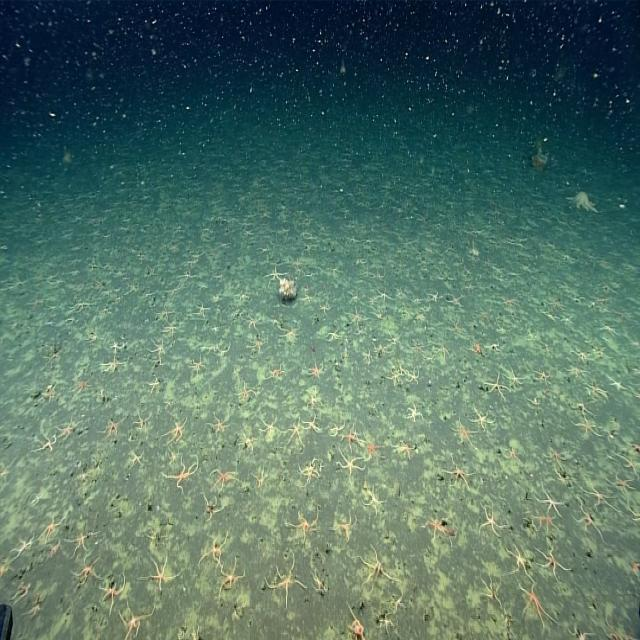brittle-stars: (518, 582, 556, 625), (360, 548, 395, 594), (267, 559, 302, 603), (534, 544, 572, 582), (118, 605, 154, 640), (146, 556, 183, 590), (591, 615, 640, 640), (582, 482, 618, 514), (165, 458, 198, 492), (288, 508, 321, 541), (573, 508, 606, 540), (198, 534, 226, 571), (337, 450, 367, 480), (218, 564, 247, 595), (36, 514, 68, 542), (445, 459, 473, 490), (98, 577, 125, 609), (505, 547, 533, 576), (534, 488, 562, 516), (480, 576, 505, 607), (69, 530, 99, 555), (99, 415, 124, 445), (614, 449, 640, 477), (346, 600, 364, 640), (21, 594, 46, 622), (479, 505, 502, 535), (72, 559, 98, 585), (207, 470, 237, 492), (163, 417, 188, 443), (331, 514, 357, 538), (298, 458, 321, 485), (452, 421, 476, 446), (483, 374, 508, 398), (572, 417, 601, 437), (13, 534, 33, 562), (361, 490, 384, 514), (470, 409, 495, 431), (540, 513, 564, 535), (0, 456, 16, 486), (570, 398, 592, 419), (546, 446, 567, 467), (69, 376, 91, 396), (58, 420, 81, 439), (204, 497, 222, 521), (286, 420, 303, 445), (34, 436, 55, 456), (208, 413, 229, 433), (426, 518, 446, 538), (146, 528, 163, 551), (10, 584, 30, 603), (266, 266, 287, 284), (235, 380, 252, 402), (362, 441, 381, 460), (396, 441, 415, 460), (530, 366, 550, 384), (237, 436, 258, 453), (310, 572, 326, 594), (246, 338, 268, 354), (264, 366, 286, 382), (303, 418, 322, 436), (614, 475, 633, 493), (601, 321, 619, 340), (328, 420, 345, 440), (348, 310, 369, 326), (378, 613, 394, 634), (570, 348, 594, 362), (586, 383, 608, 398), (304, 394, 322, 412), (305, 362, 324, 379), (406, 402, 422, 422), (261, 421, 282, 436), (569, 628, 595, 640), (0, 554, 14, 576), (386, 366, 402, 385), (133, 414, 149, 432), (342, 431, 360, 447), (44, 349, 60, 367), (251, 469, 267, 487), (506, 372, 524, 388), (146, 342, 166, 356), (279, 328, 299, 342), (102, 358, 122, 372), (70, 302, 93, 314), (564, 365, 586, 377), (166, 285, 186, 298), (189, 358, 205, 374), (156, 308, 172, 324), (376, 287, 393, 302), (42, 385, 56, 403), (435, 344, 450, 360), (386, 331, 402, 346), (447, 293, 464, 307), (627, 504, 640, 522), (373, 344, 391, 357), (298, 292, 317, 304), (504, 446, 518, 462), (244, 317, 262, 329), (405, 367, 419, 382), (485, 342, 502, 354), (325, 264, 343, 275), (194, 302, 208, 316), (319, 302, 331, 318), (410, 342, 429, 352), (180, 272, 197, 283), (130, 452, 144, 465), (326, 330, 341, 342), (126, 281, 138, 296), (32, 493, 44, 508), (230, 308, 245, 320), (148, 378, 160, 392), (216, 344, 230, 356), (395, 597, 406, 612), (47, 279, 65, 288), (235, 291, 249, 302), (361, 267, 372, 281), (592, 348, 606, 359), (371, 270, 386, 280), (464, 342, 479, 352), (202, 344, 218, 353), (192, 622, 200, 640), (450, 322, 462, 334), (163, 326, 177, 336), (501, 298, 516, 307), (631, 560, 640, 575), (111, 343, 123, 354), (372, 310, 385, 320), (364, 350, 372, 366), (177, 626, 186, 640), (356, 256, 368, 266), (562, 315, 572, 327), (165, 398, 176, 408), (493, 266, 504, 276), (428, 292, 440, 301), (85, 335, 98, 343), (154, 357, 165, 366), (527, 398, 541, 405), (410, 296, 421, 304)
